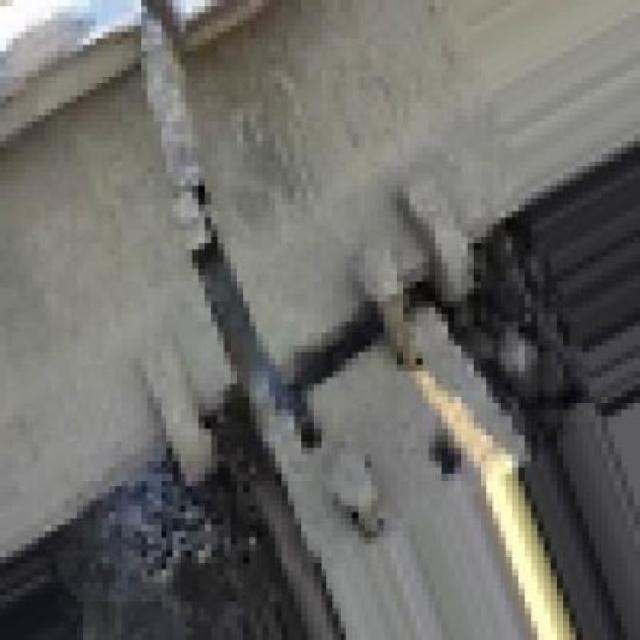defective: (3, 0, 422, 561)
